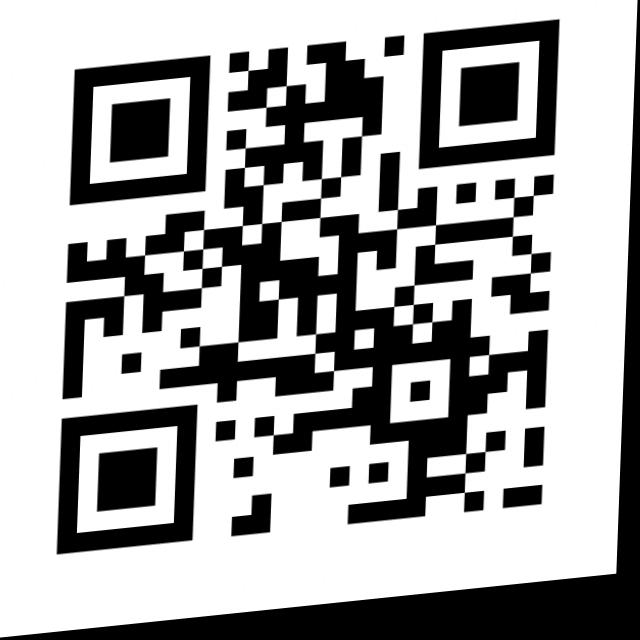QR_CODE: (49, 18, 570, 571)
